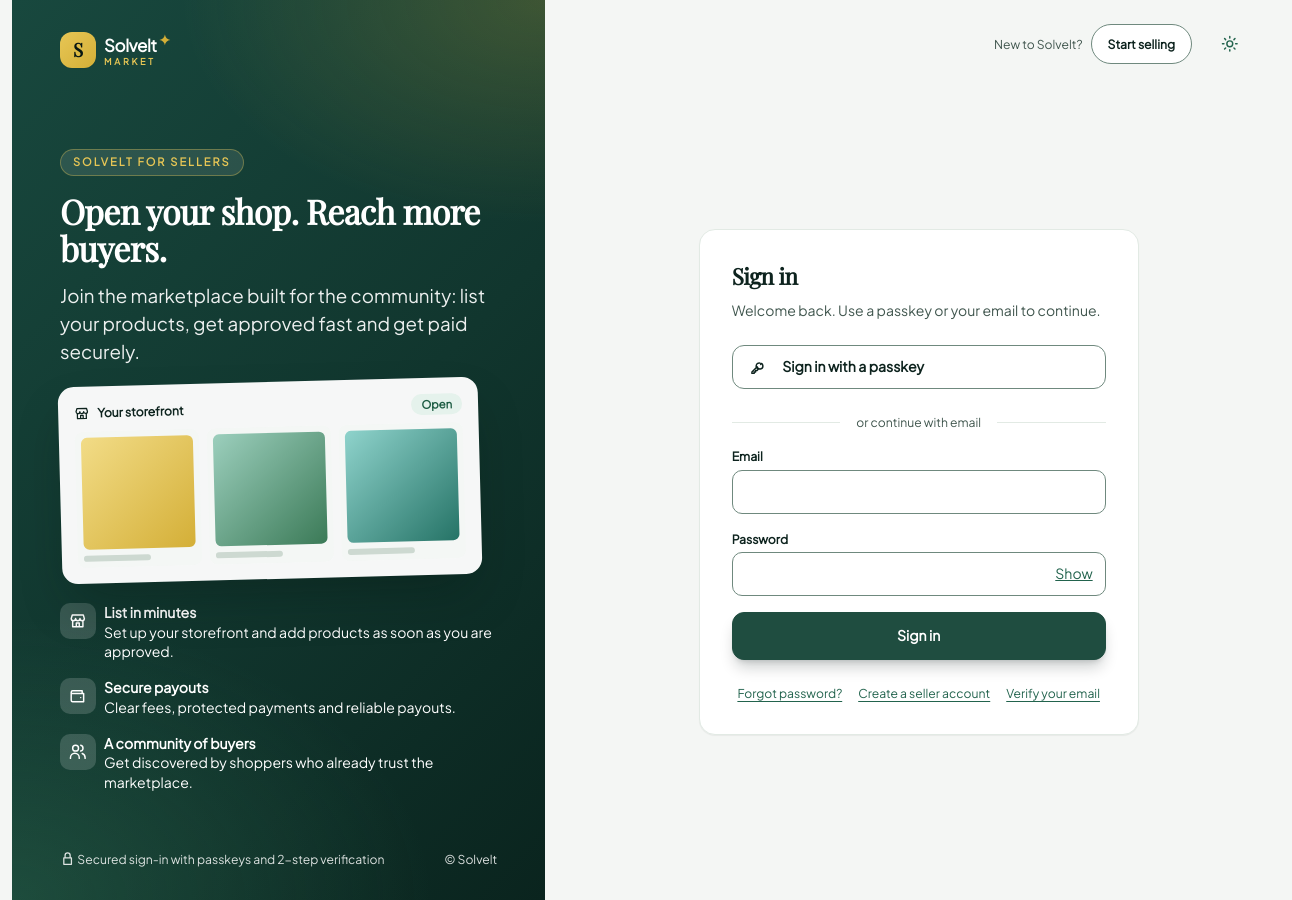
Scenario: route guards and redirect-back › after login the user lands on the original page
In the field labelled "Email": (919, 492) [732,470,1106,514], type "seller@example.com"
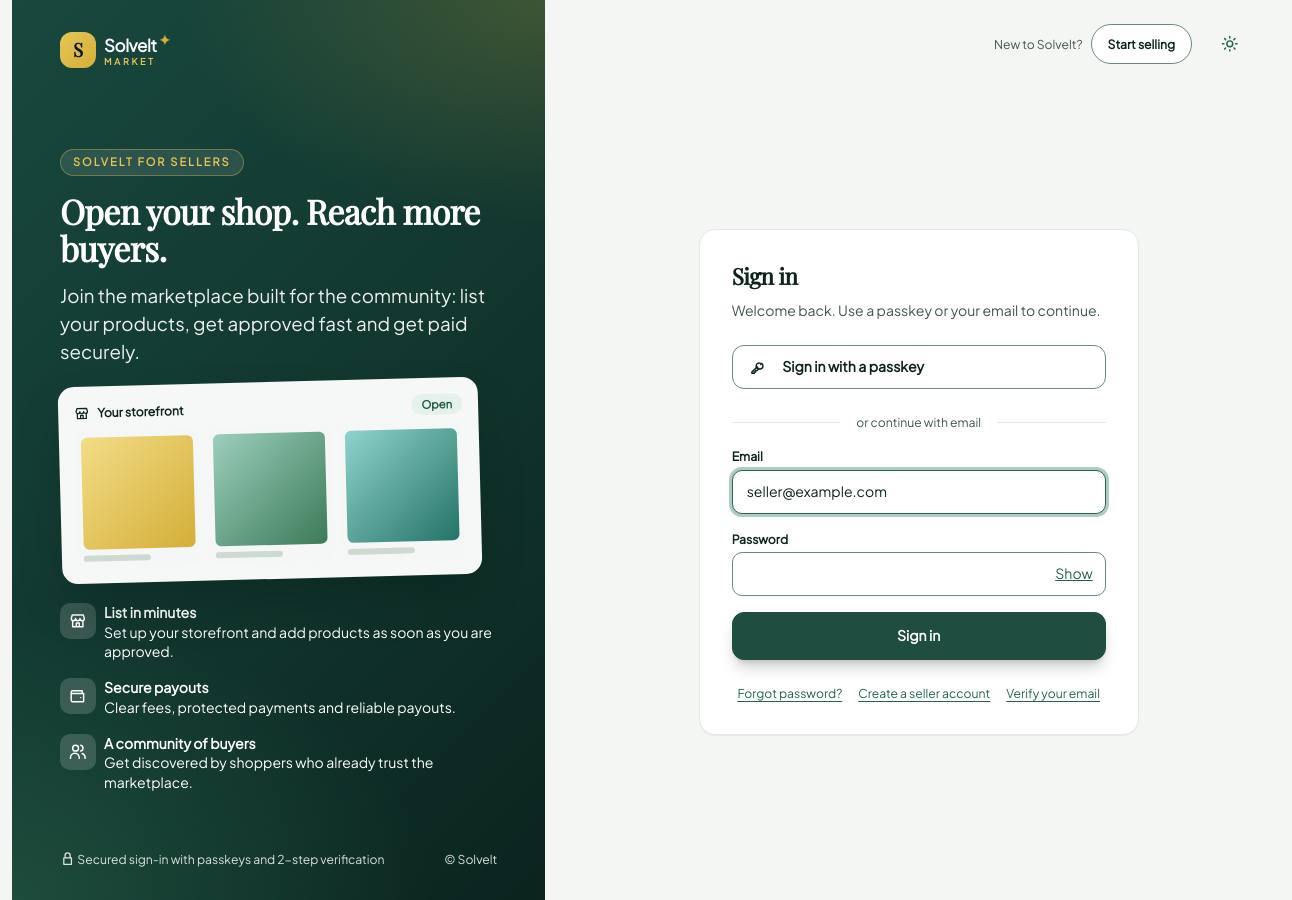
In the password field labelled "Password": (919, 574) [732,552,1106,596], type "Tr1cky-Horse-Battery!"
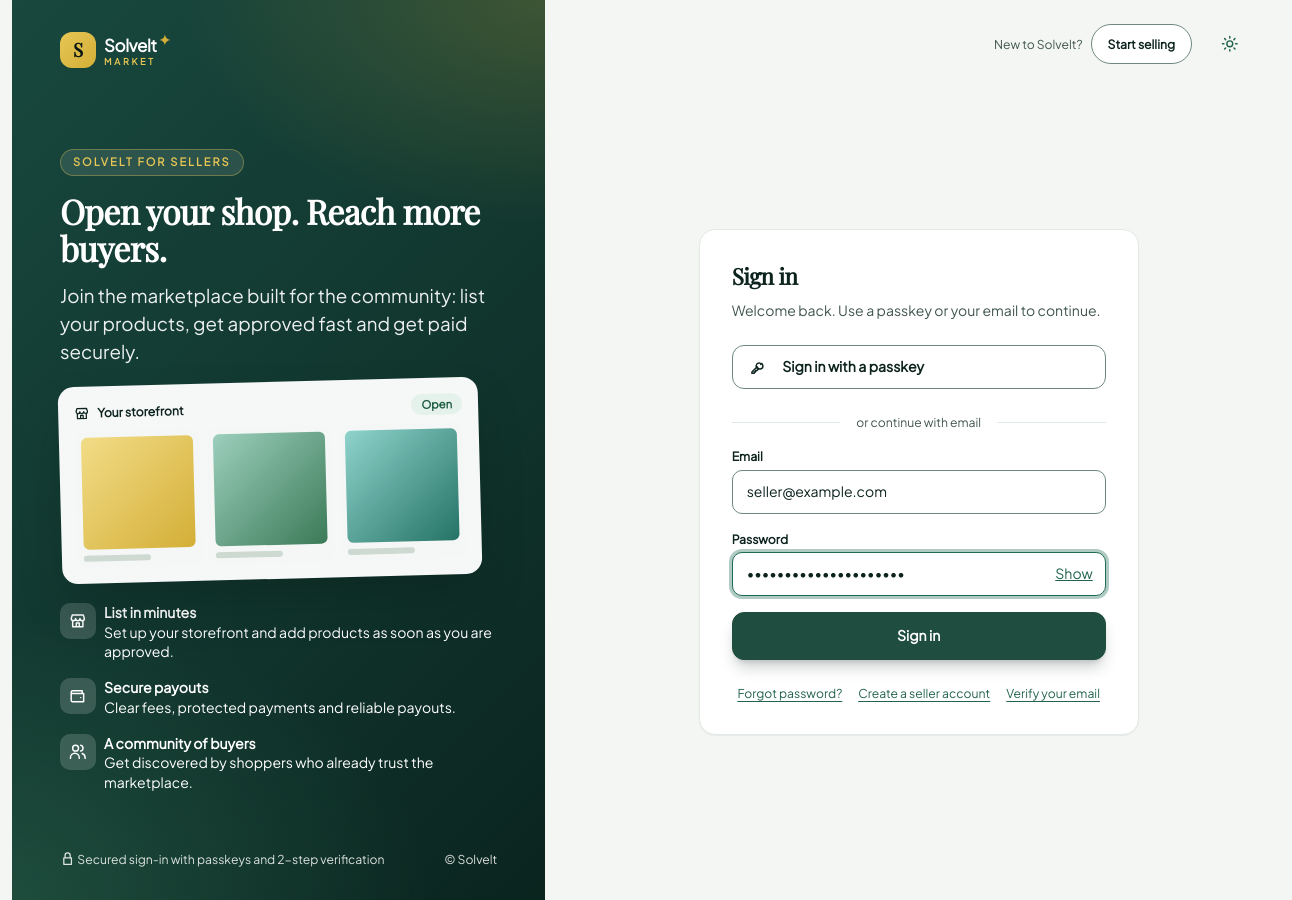
Click the button "Sign in": (919, 636) [732,612,1106,660]
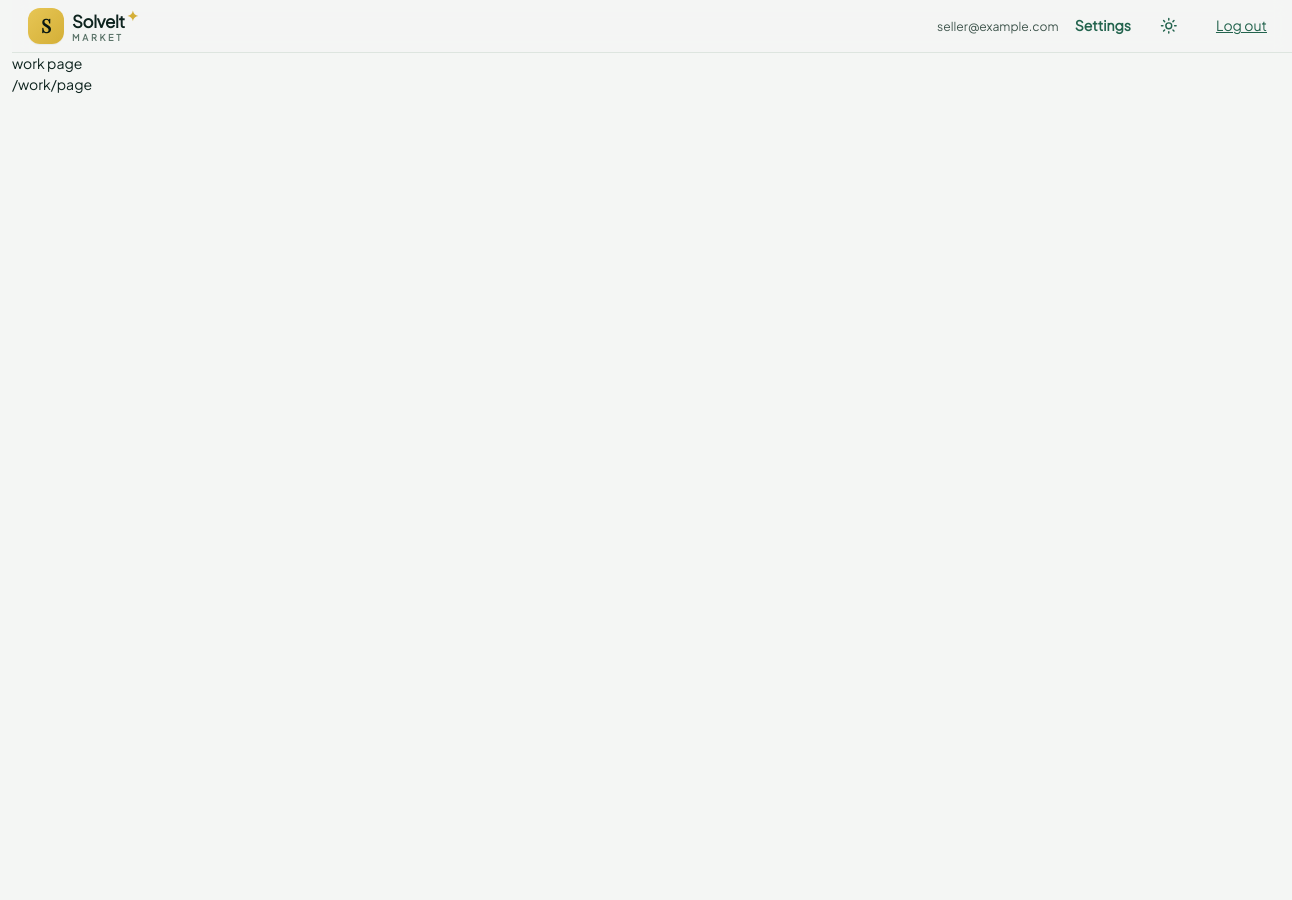
Expected: the text "work page" is shown, [12,54,82,72]
